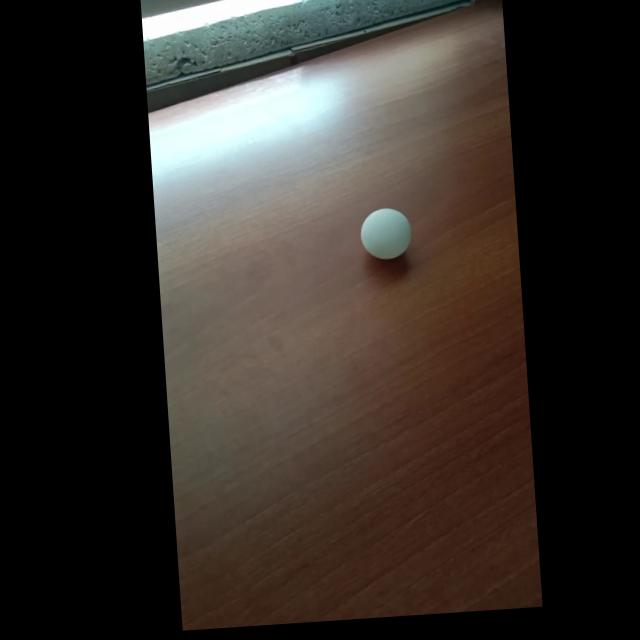white ball: (357, 206, 413, 261)
